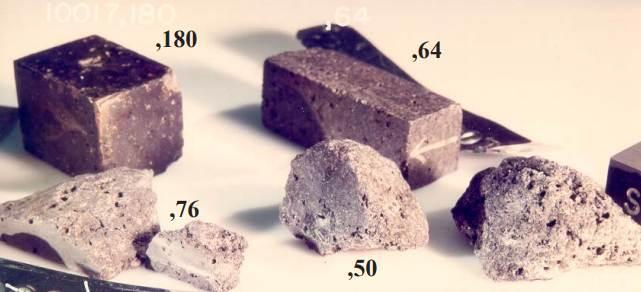Basalt: (28, 29, 192, 178), (482, 152, 628, 275), (30, 167, 181, 272), (285, 150, 447, 247)
